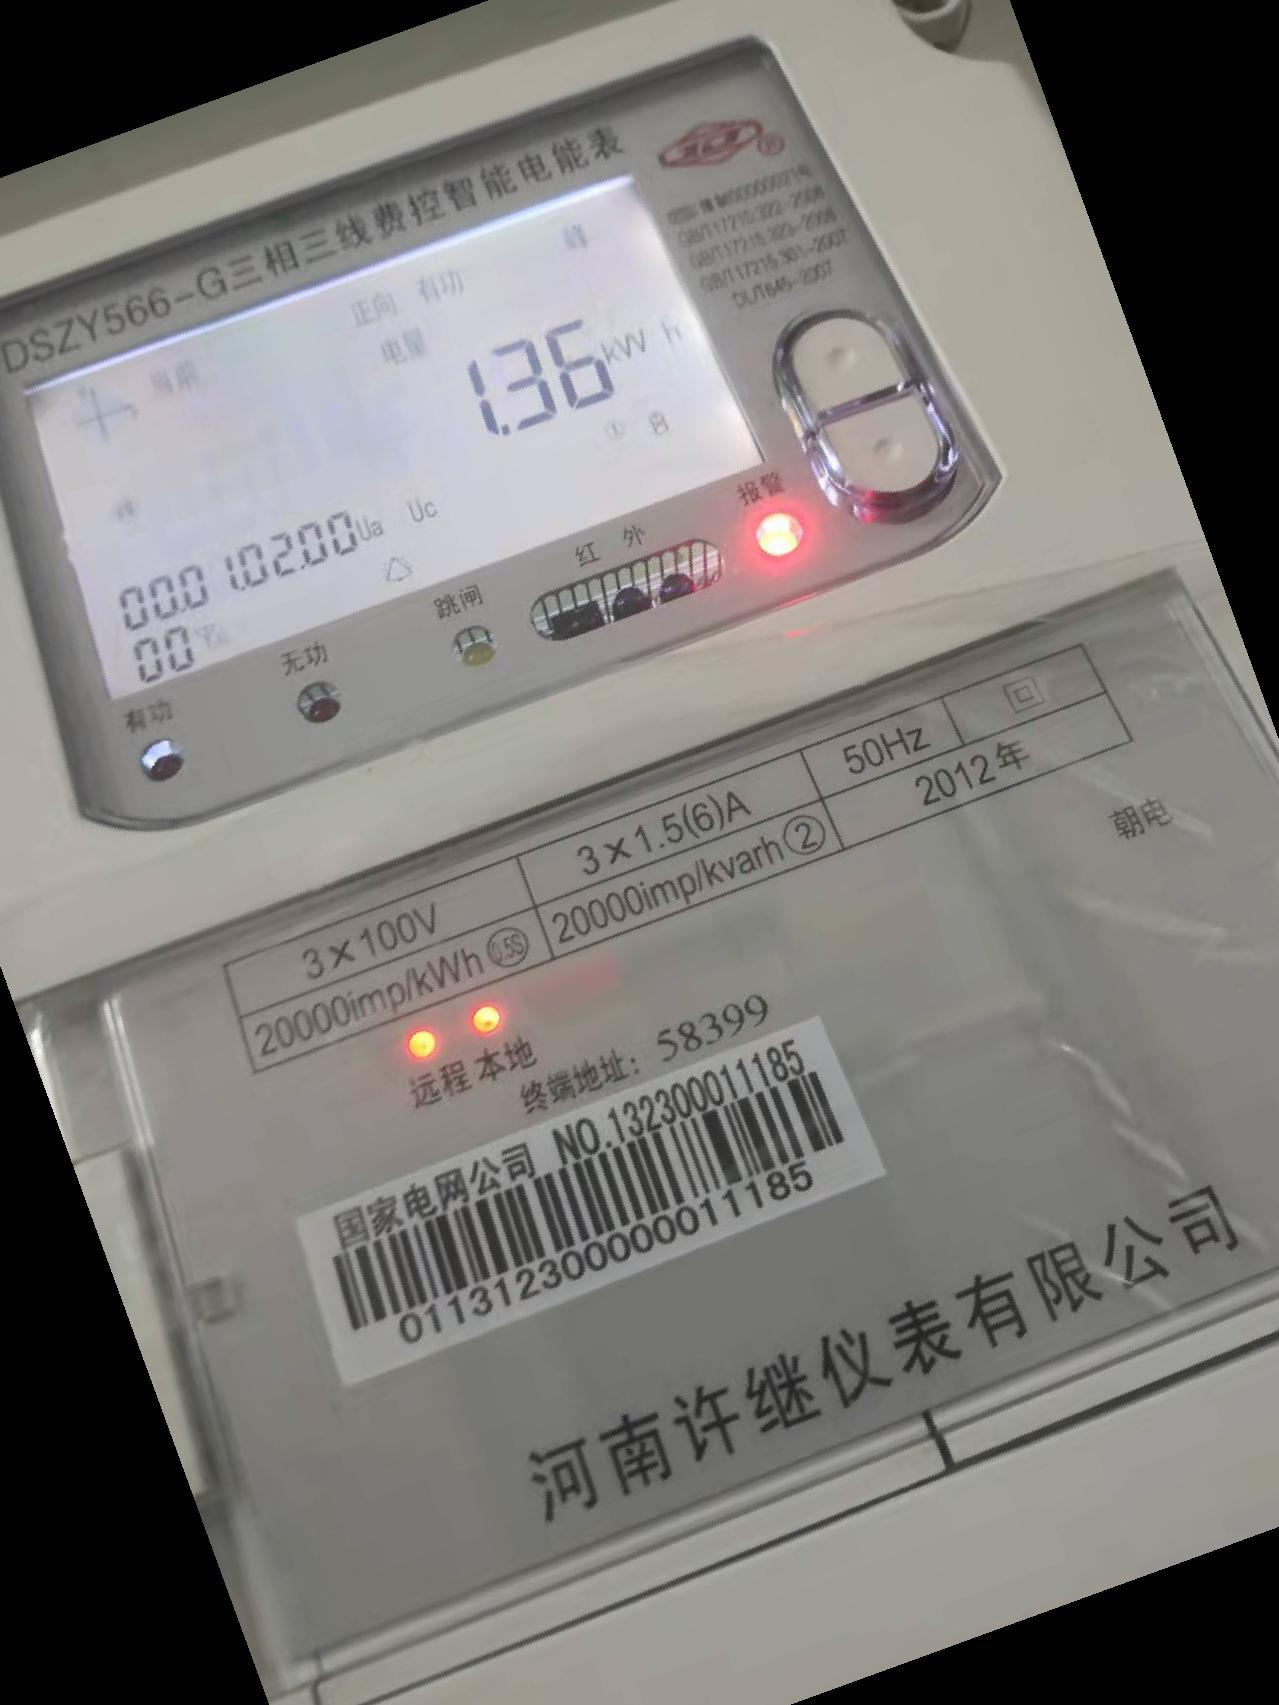digital: (4, 1, 1279, 1702)
